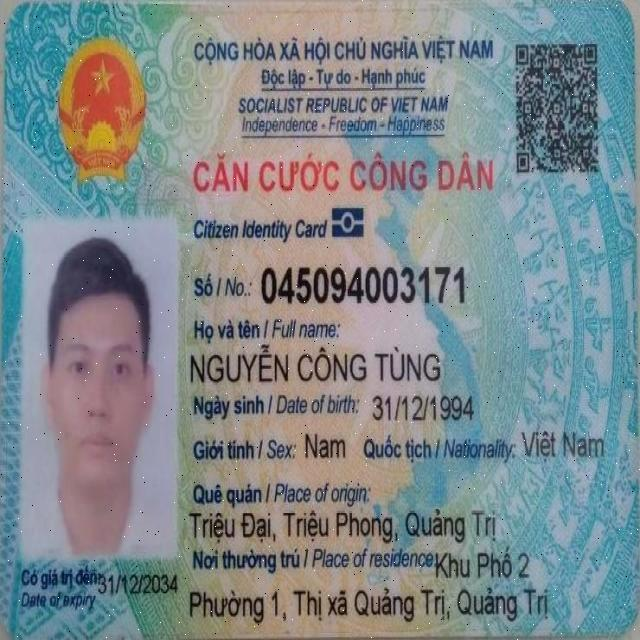current_place: (184, 585, 551, 626), (430, 548, 541, 585)
dob: (367, 392, 483, 428)
expire_date: (103, 565, 191, 607)
gender: (302, 430, 356, 468)
id: (259, 261, 483, 315)
name: (187, 345, 471, 388)
nationality: (517, 426, 611, 474)
origin_place: (184, 508, 509, 546)
